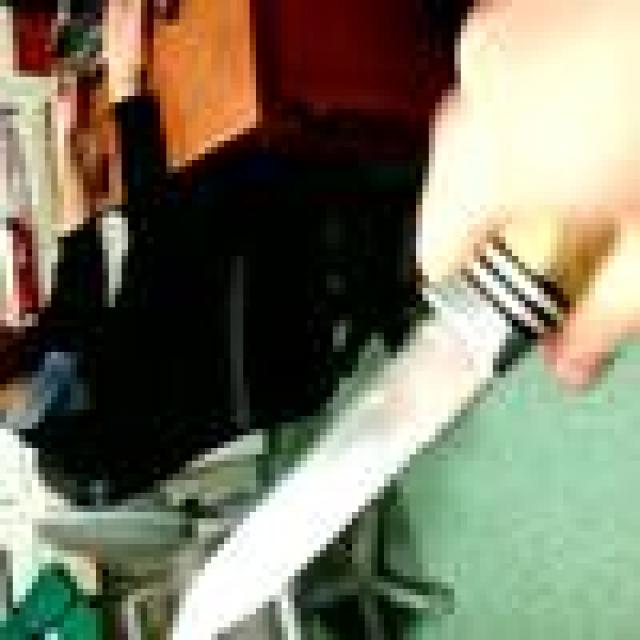knife: (167, 269, 538, 640)
